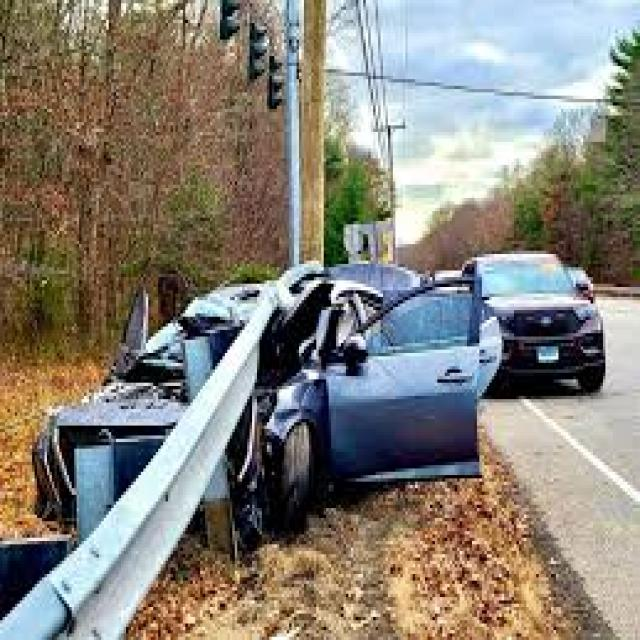accident: (70, 248, 487, 556)
